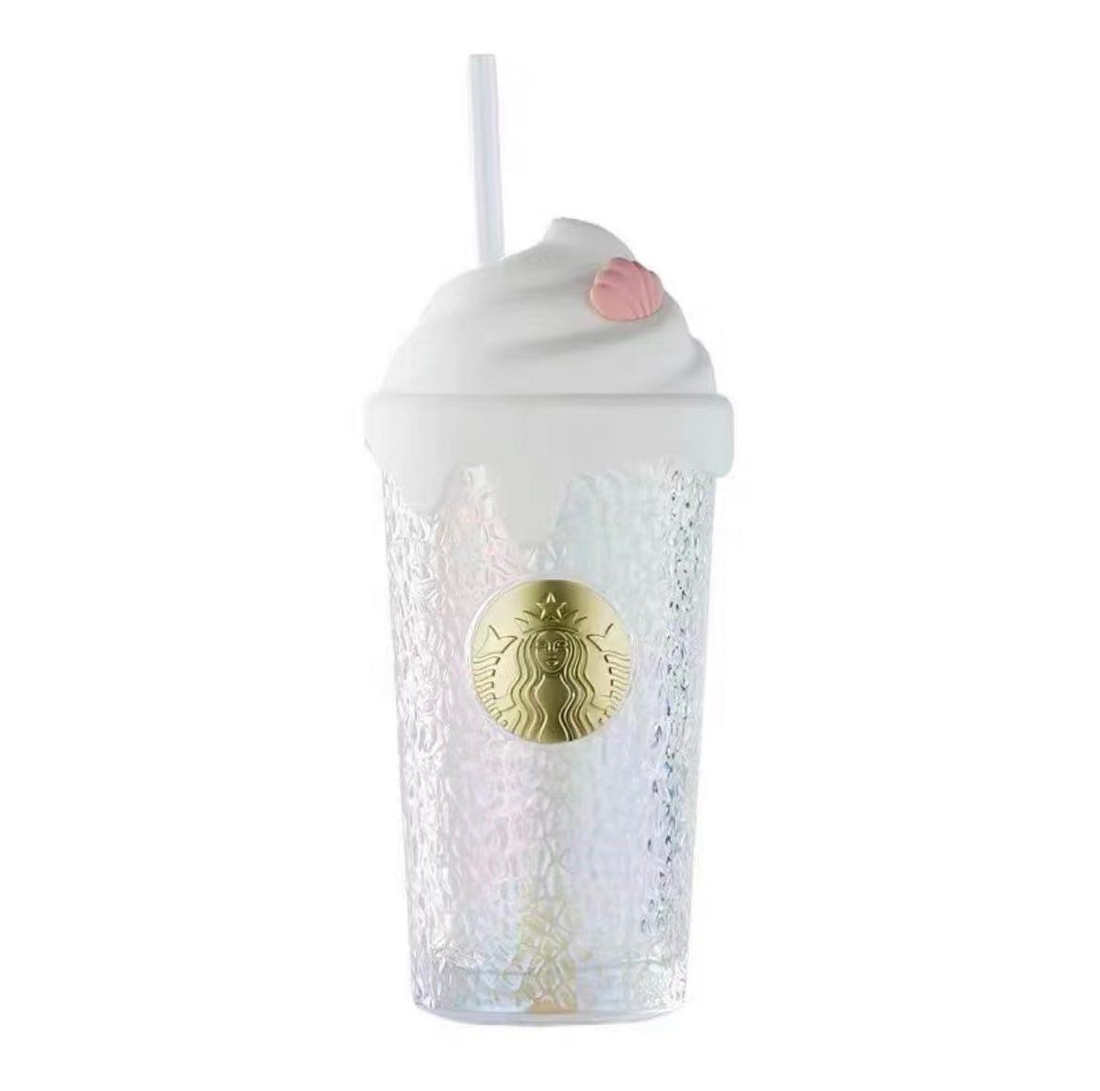cup-disposable: (359, 210, 725, 1040)
